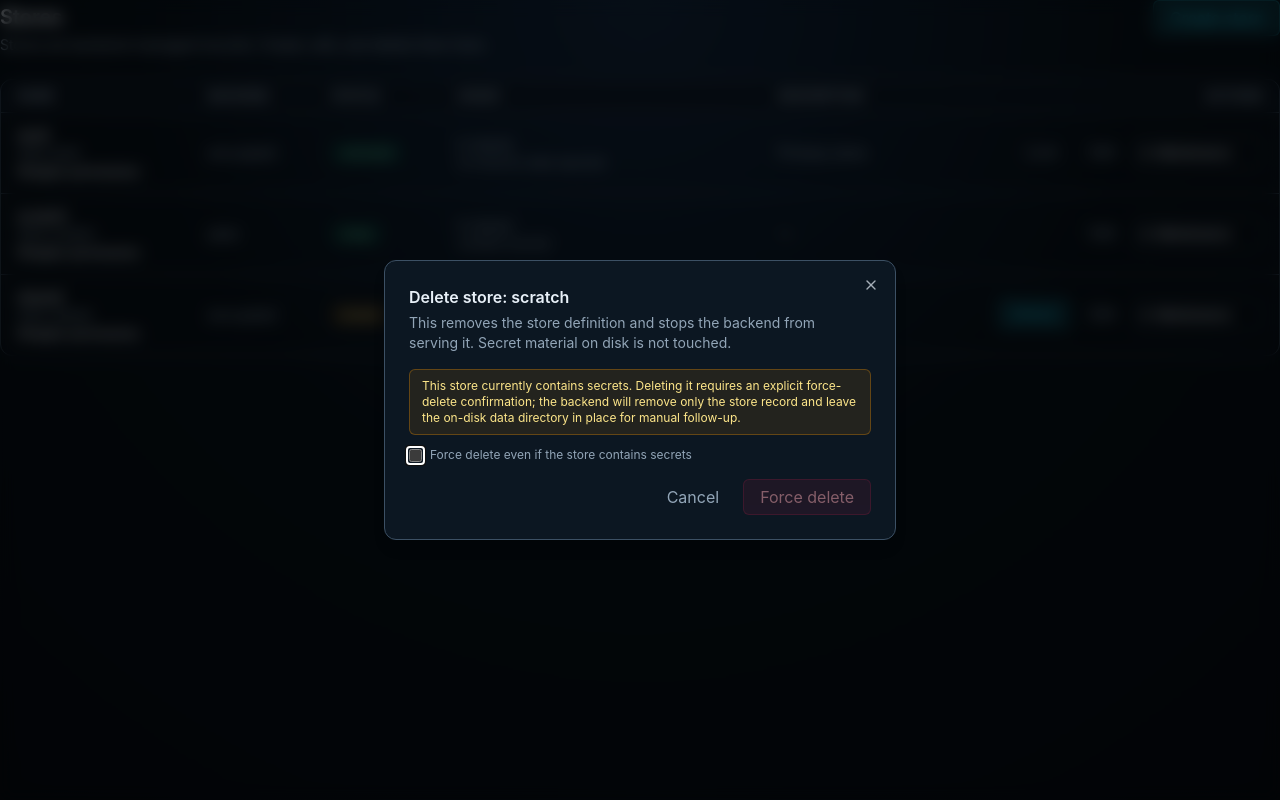
Test: StoresPage › delete dialog requires force confirmation for non-empty stores
Earlier steps of the test are not shown.
Expected: the button "Force delete" is disabled, [743,479,871,515]
Click the checkbox labelled "Force delete even if the store contains secrets" at (416, 455), box [409,448,422,462]
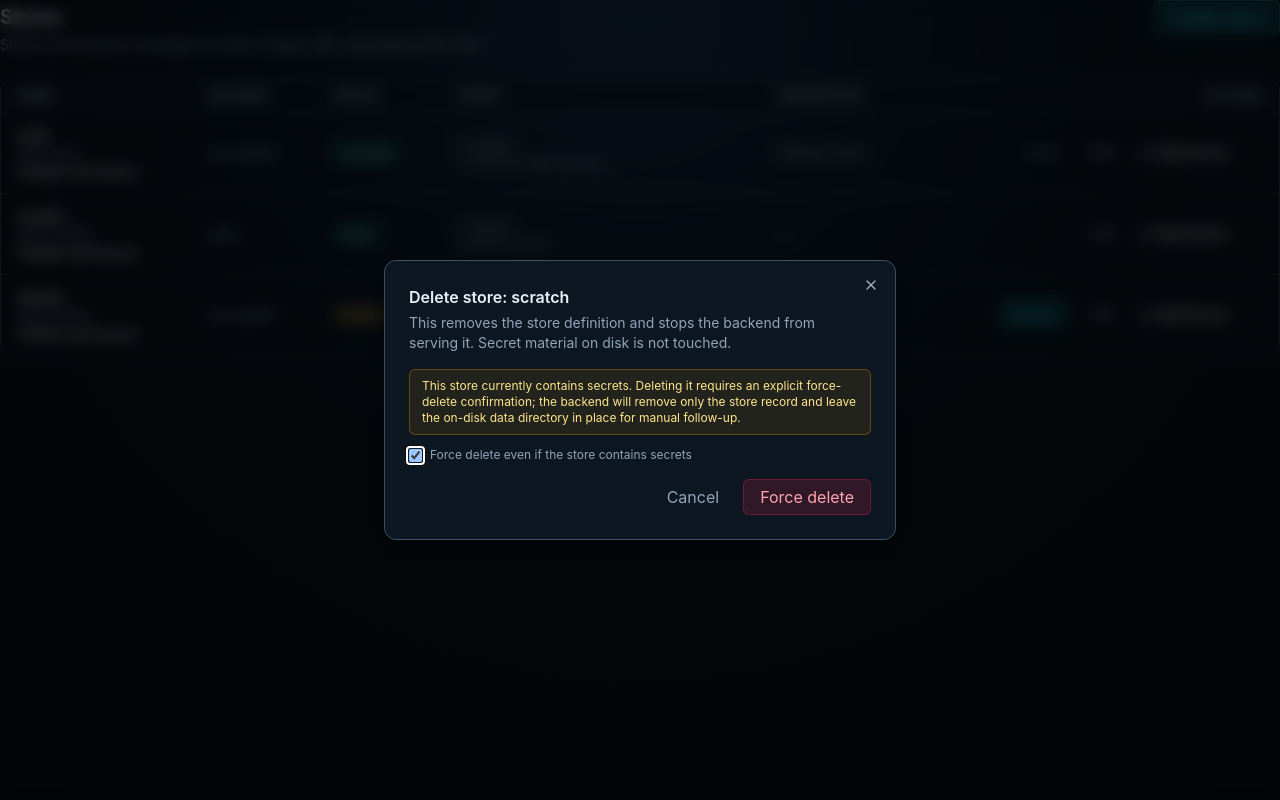
Now the button "Force delete" is enabled, box [743,479,871,515]
